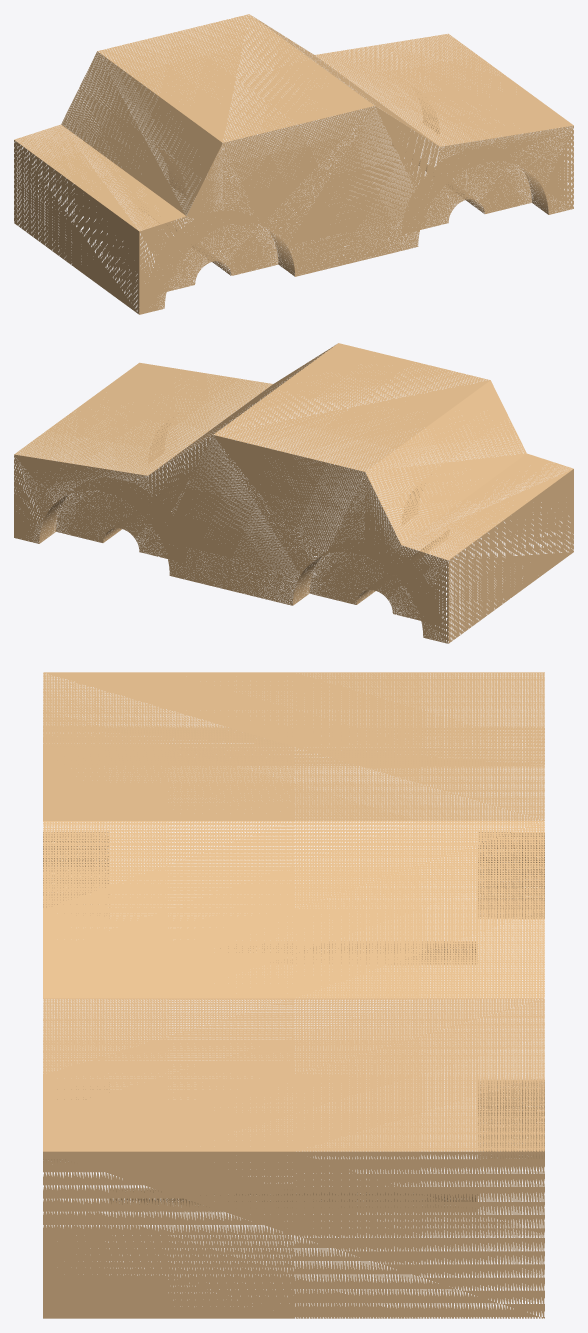
The model's file is chassis-altered.gltf.
3 views of the same model, one above another, from view 1: azimuth 30°, elevation 25°; view 2: azimuth 150°, elevation 25°; view 3: azimuth 270°, elevation 25° (orthographic). The views are drawn at different scales.
Visible parts, largest first — view 1: chassis-altered; view 2: chassis-altered; view 3: chassis-altered.
Part boxes in pixels (x1=…): chassis-altered: x1=14, y1=14, x2=573, y2=314; chassis-altered: x1=14, y1=343, x2=573, y2=643; chassis-altered: x1=43, y1=672, x2=544, y2=1318.
Size of the model in its own units: 0.12 by 0.04 by 0.06.
